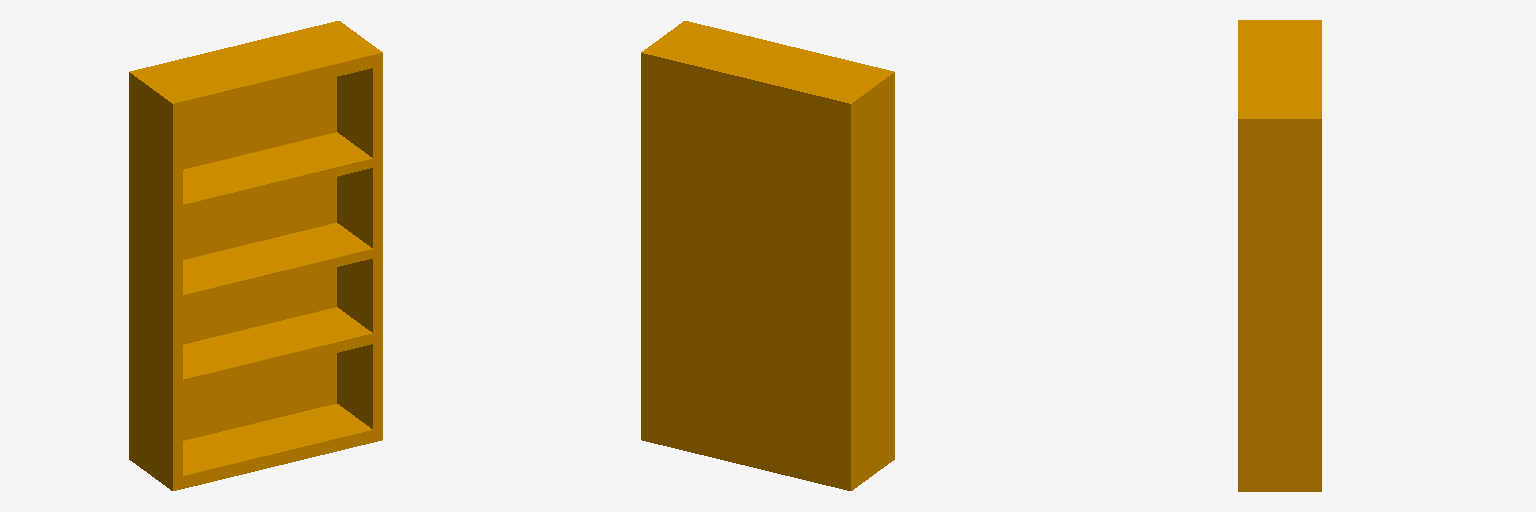
The robot description file, URDF, robot "1170df5b9512c1d92f6bce2b7e6c12b7":
<?xml version="1.0" ?>
<robot name="1170df5b9512c1d92f6bce2b7e6c12b7" version="1.0">
  <link name="base_link">
    <inertial>
      <origin rpy="0.0 0.0 0.0" xyz="0.0 0.0 0.0"/>
      <mass value="14.645859303067182"/>
      <inertia ixx="0.001" ixy="0.0" ixz="0.0" iyy="0.001" iyz="0.0" izz="0.001"/>
    </inertial>
    <visual name="1170df5b9512c1d92f6bce2b7e6c12b7___1">
      <origin rpy="0.0 0.0 0.0" xyz="0.0 -0.0 0.0"/>
      <geometry>
        <mesh filename="shape/visual/1170df5b9512c1d92f6bce2b7e6c12b7_m1_vm.obj"/>
      </geometry>
    </visual>
    <collision>
      <origin rpy="0.0 0.0 0.0" xyz="0.0 -0.0 0.0"/>
      <geometry>
        <mesh filename="shape/collision/1170df5b9512c1d92f6bce2b7e6c12b7_cm.obj"/>
      </geometry>
    </collision>
  </link>
</robot>

--- Facts derived from the render (not from the file) ---
Views: 3 orthographic renders of the robot side by side, from view 1: azimuth 30°, elevation 25°; view 2: azimuth 150°, elevation 25°; view 3: azimuth 270°, elevation 25°.
Robot: 1170df5b9512c1d92f6bce2b7e6c12b7 — 1 links, 0 joints (none); root link base_link; default pose: all joints at 0.
Links seen in each view (by area): view 1: base_link; view 2: base_link; view 3: base_link.
Boxes of the visible links, <box> form: base_link: <box>129,21,382,490</box>; base_link: <box>641,21,894,490</box>; base_link: <box>1238,20,1321,491</box>.
Bounding box of the posed robot: 0.486 × 0.176 × 0.856 m (x, y, z).
1 mesh visuals loaded from 1 distinct referenced files (1 OBJ).